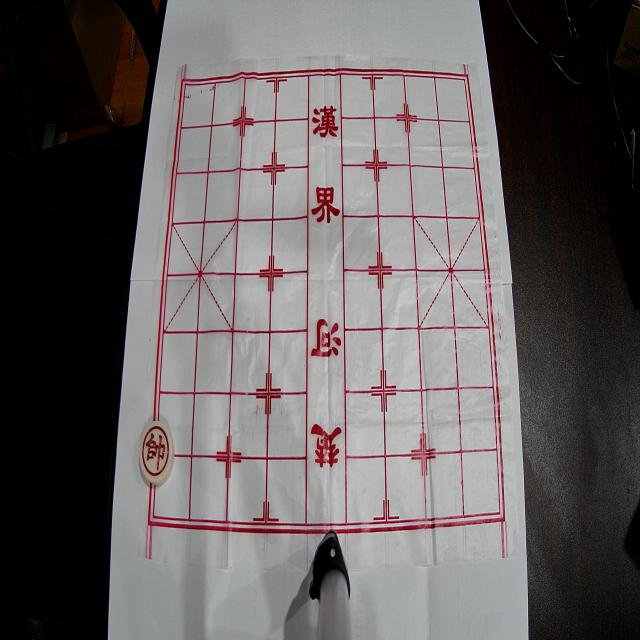red-general: (140, 421, 174, 485)
